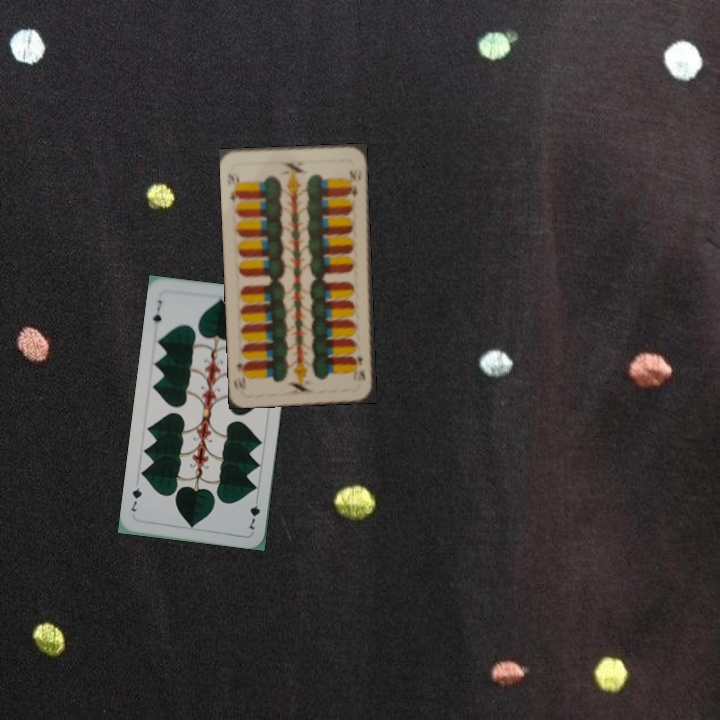E10: (224, 169, 243, 204), (351, 352, 368, 383)
G7: (245, 493, 263, 532), (149, 296, 164, 326)
